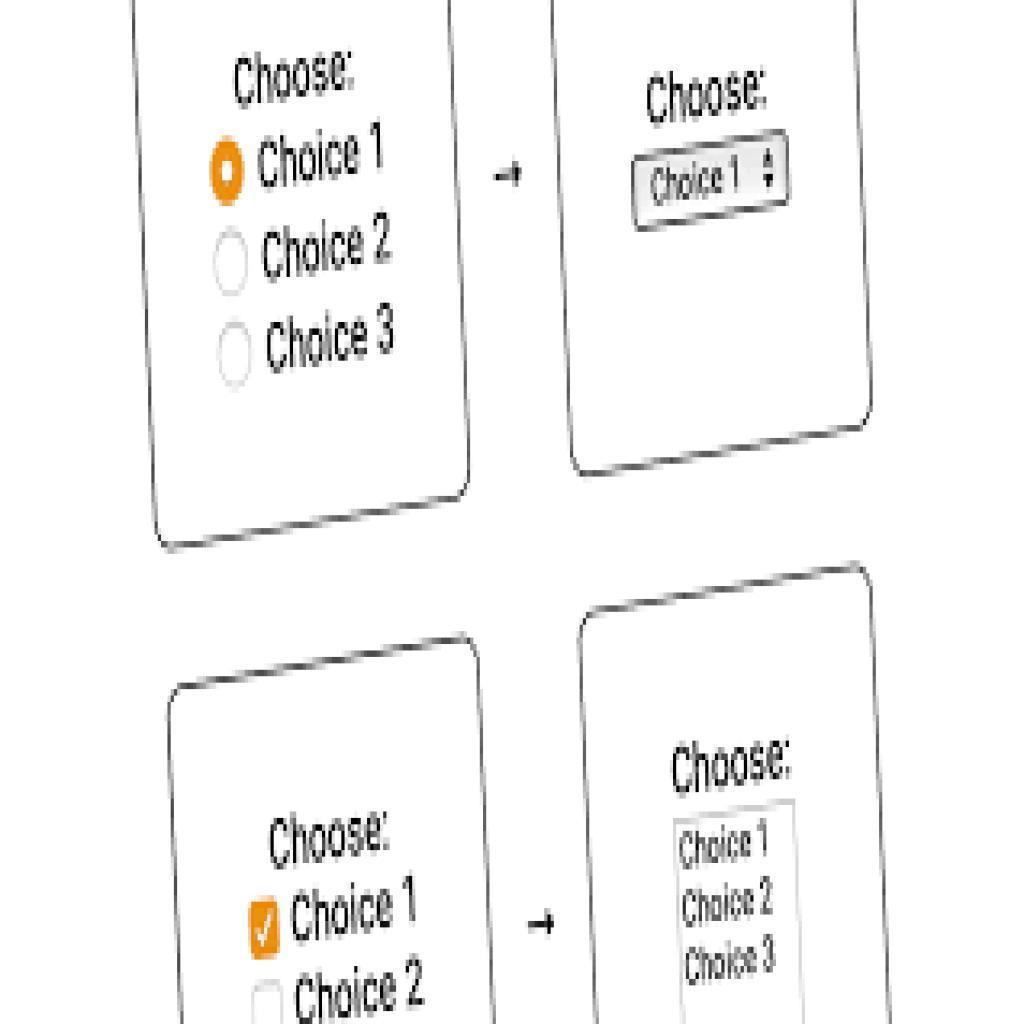checkbox: (249, 896, 287, 966)
radio: (210, 225, 253, 302), (214, 322, 261, 390), (205, 137, 248, 210)
